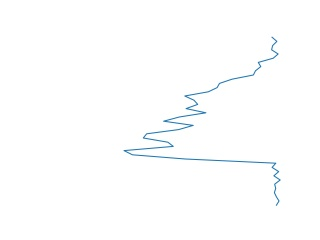proximalDeepseaFan: (121, 36, 287, 207)
